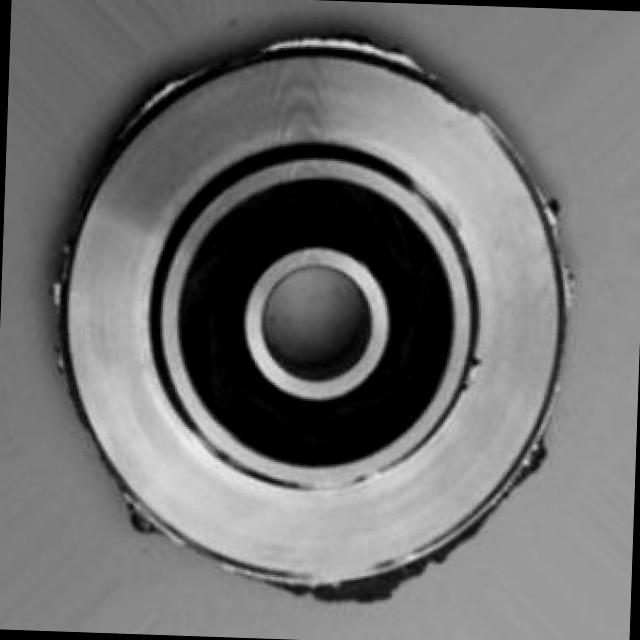Defect: (271, 30, 446, 60)
